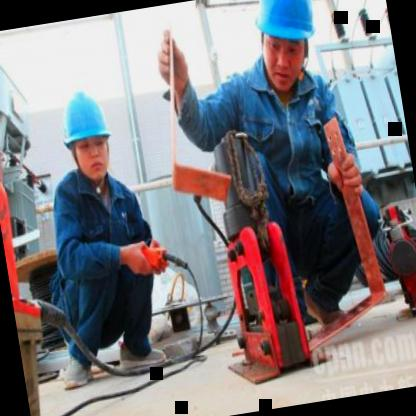helmet: (248, 0, 331, 102), (50, 82, 119, 192)
